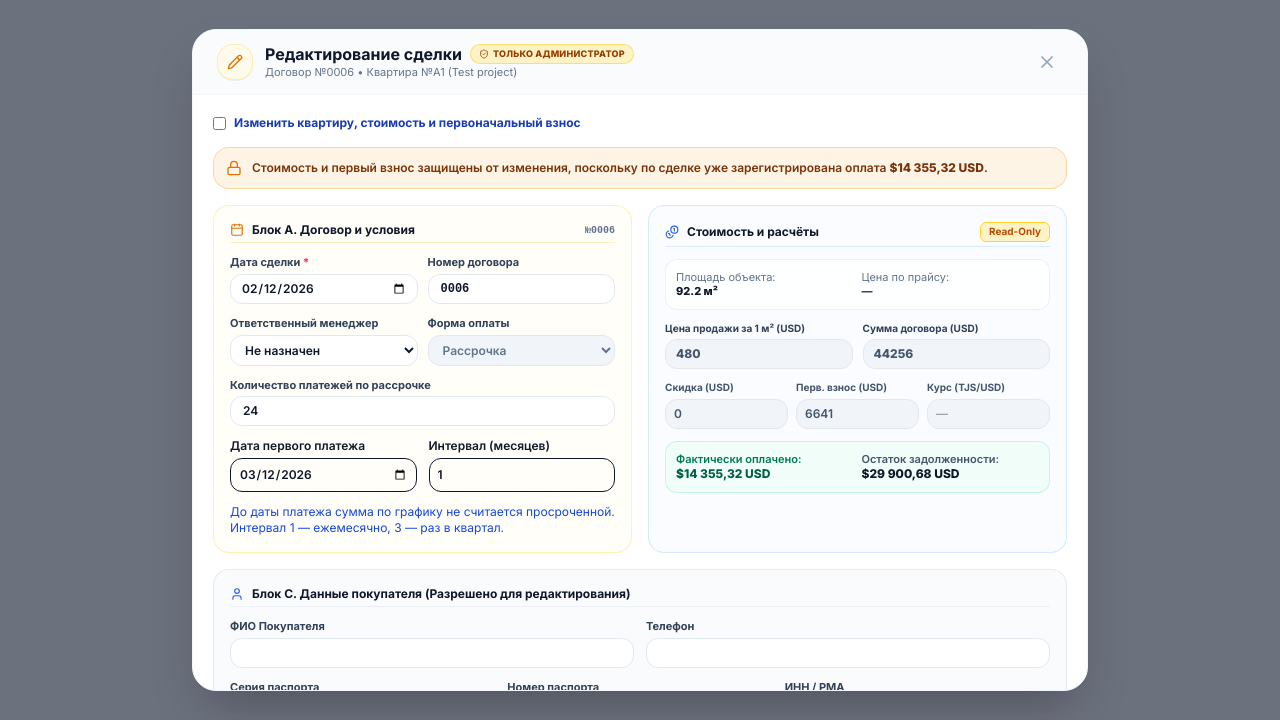
Test: rejects a deposit greater than the agreed price without sending an amendment
Click the checkbox labelled "Изменить квартиру, стоимость и первоначальный взнос": (220, 123) [213,117,226,130]
(page scrolled)
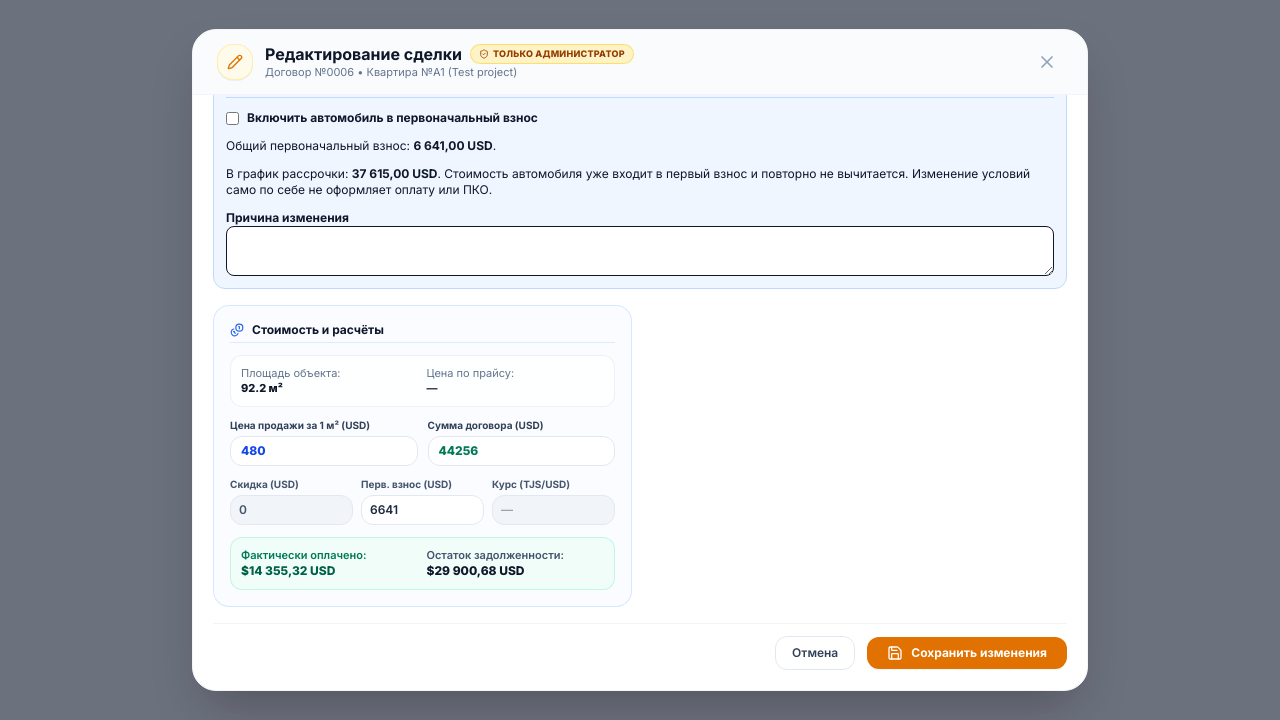
Replace the text in the number field named "Первоначальный взнос" with "50000": (422, 510) [361,495,484,525]
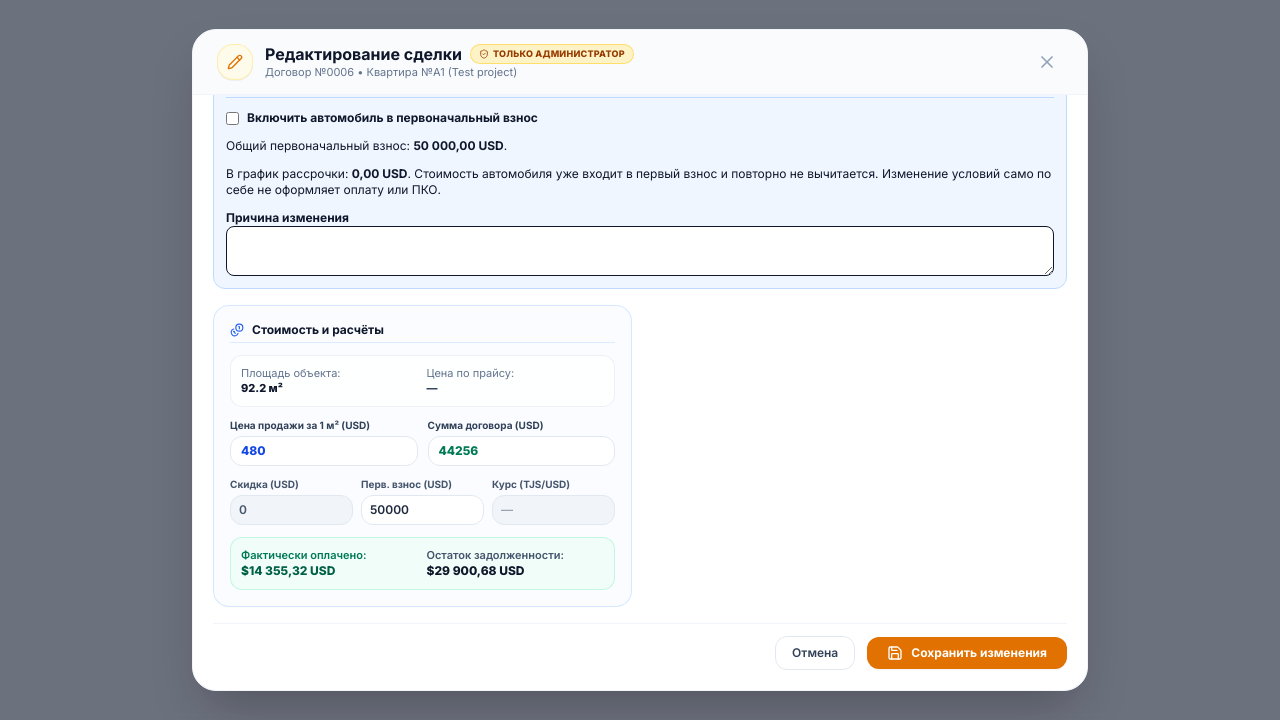
In the text box labelled "Причина изменения": (640, 251) [226,226,1054,276], type "Test"
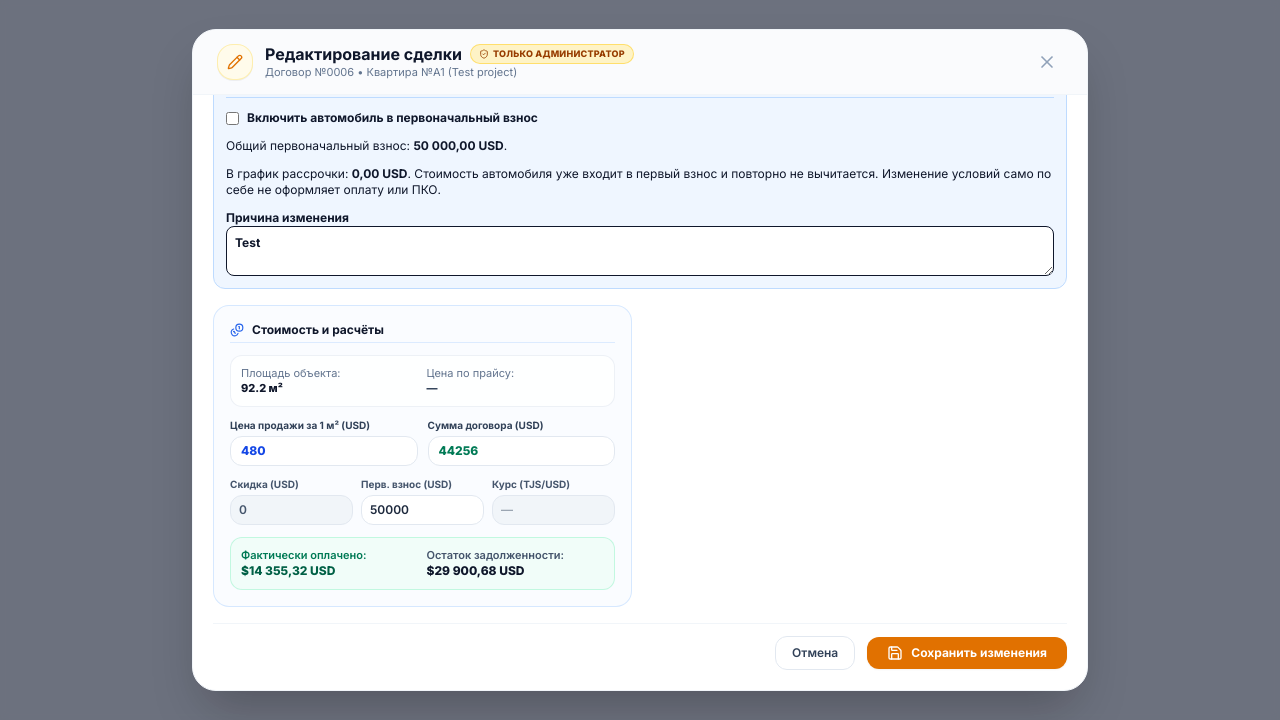
Submit the form named "Сохранить изменения", box [193,95,1087,690]
(page scrolled)
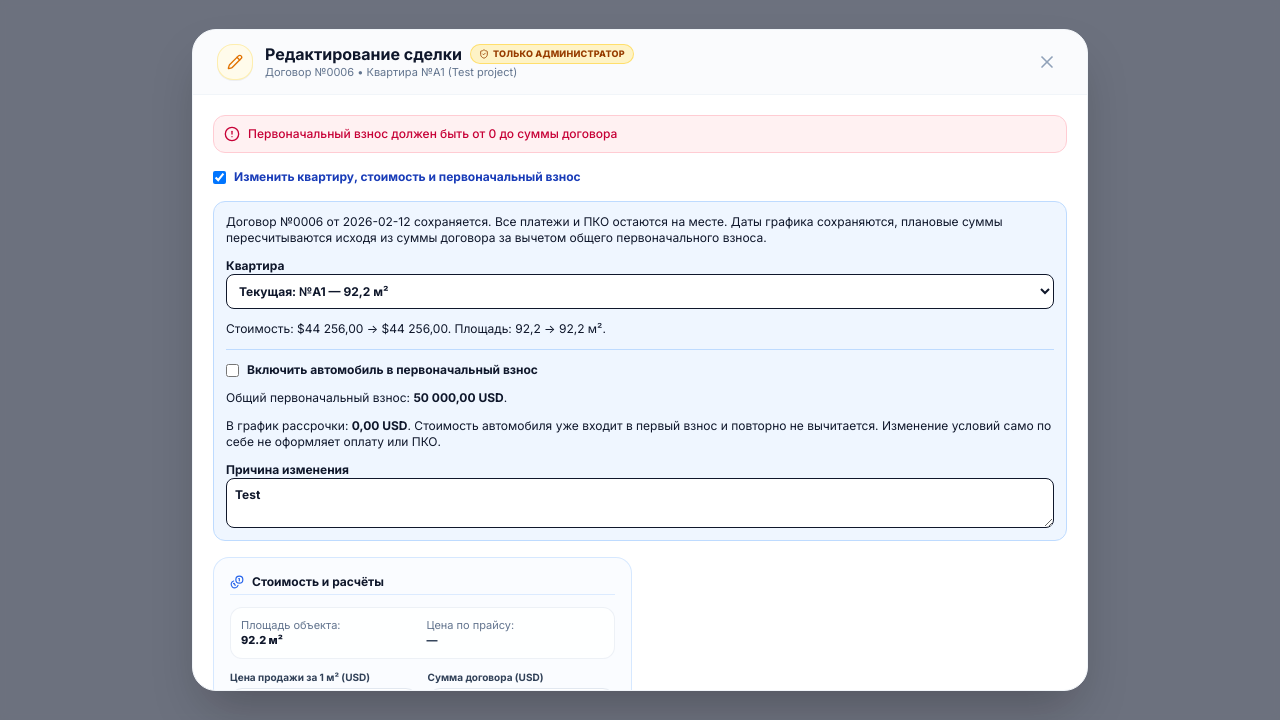
Now the text "Первоначальный взнос должен быть от 0 до суммы договора" is shown, box [248,126,617,142]
